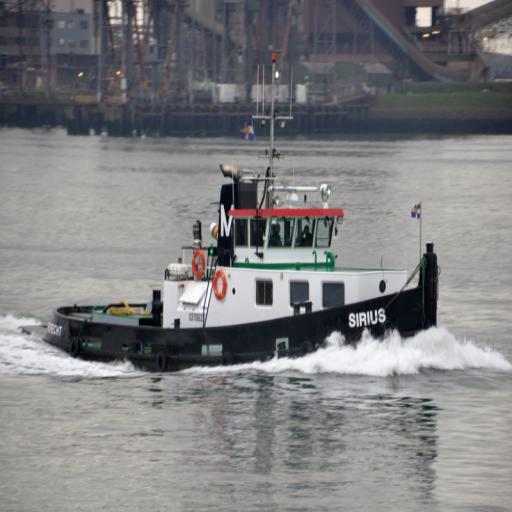tugboat: (17, 111, 444, 383)
